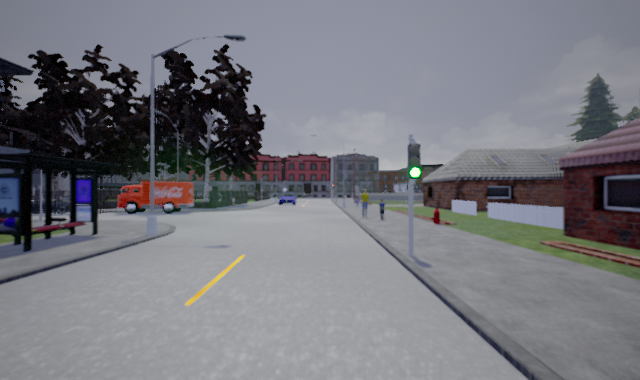pedestrian: (359, 187, 370, 218), (375, 196, 388, 220)
vehicle: (115, 181, 195, 214), (278, 192, 297, 206)
